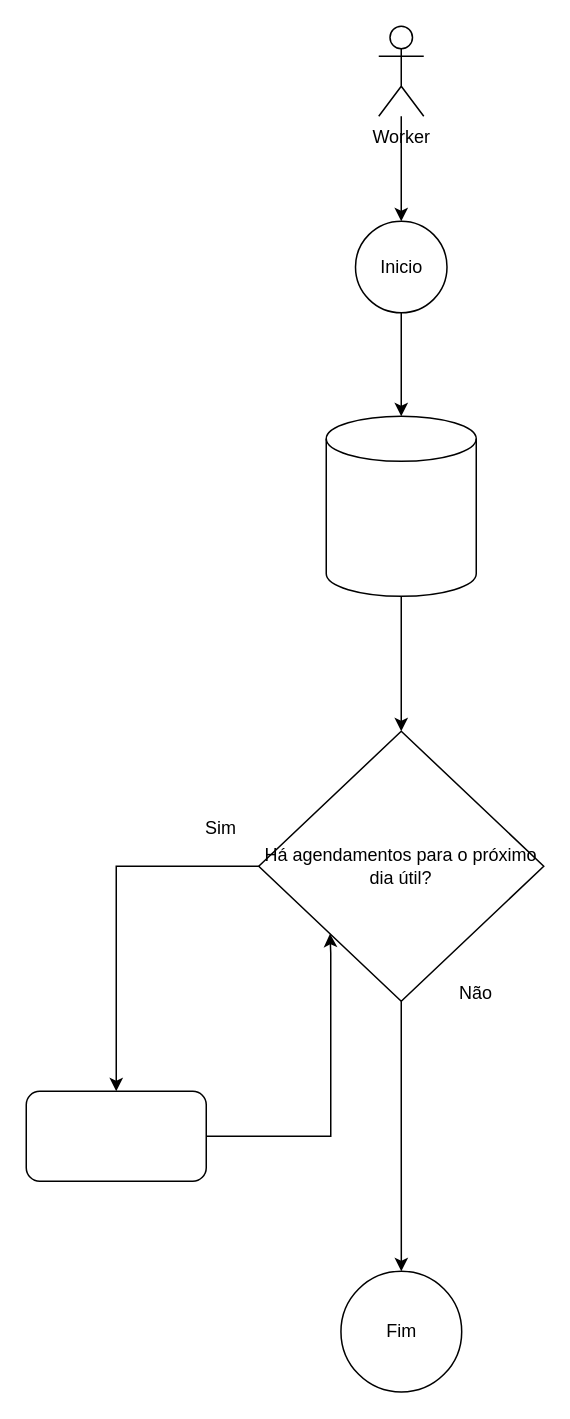
The diagram is 570 pixels wide and 1419 high, and some of its shapes have lost their labels. Here are the shapes that lost their labels. From the top down, the centre of each, then its label:
pixel 400 505: banco de dados
pixel 115 1135: Dispara e-mail
